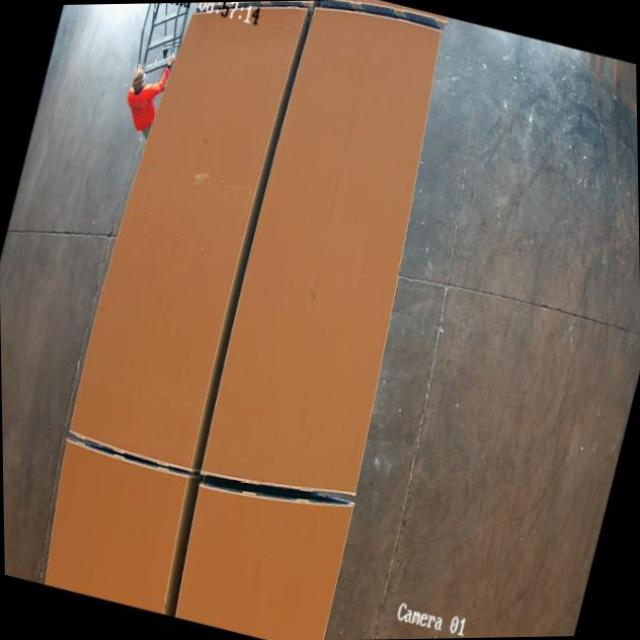person: (116, 44, 174, 137)
